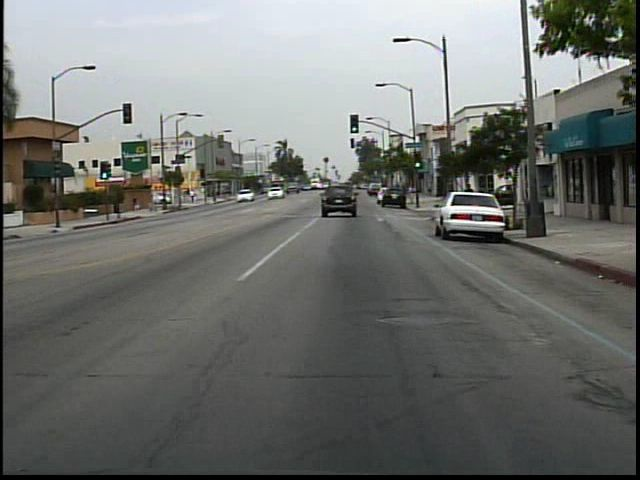person: (459, 178, 479, 217), (128, 192, 147, 220), (190, 188, 198, 206)
